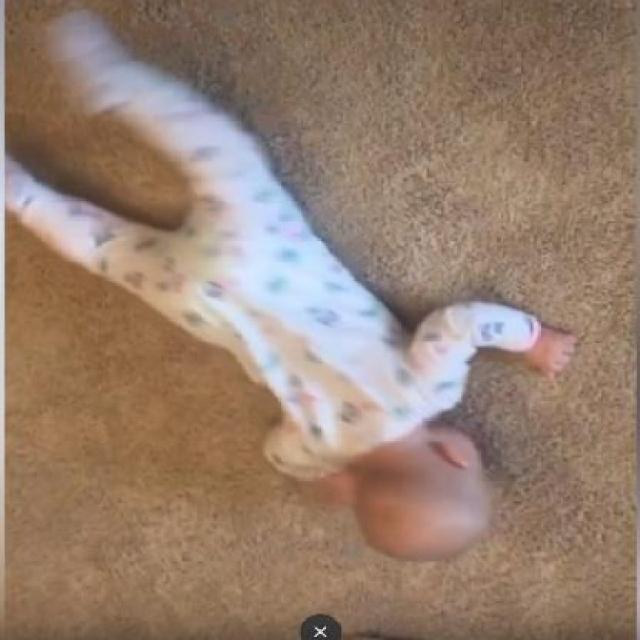baby: (8, 38, 574, 564)
